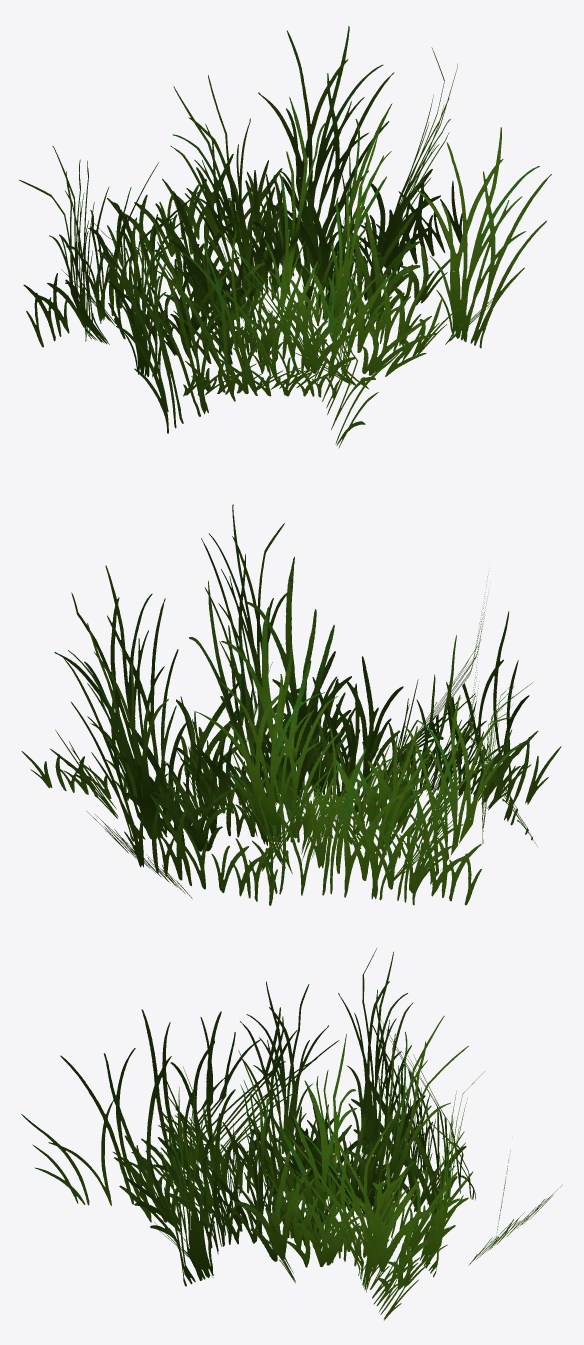
3 views of the same model, one above another, from view 1: azimuth 30°, elevation 25°; view 2: azimuth 150°, elevation 25°; view 3: azimuth 270°, elevation 25° (orthographic). The views are drawn at different scales.
Parts seen in each view (by area): view 1: SM_BM_GrassLong_02_LOD0; view 2: SM_BM_GrassLong_02_LOD0; view 3: SM_BM_GrassLong_02_LOD0.
Part boxes in pixels (left/top/right/bottom): SM_BM_GrassLong_02_LOD0: left=19, top=26, right=551, bottom=448; SM_BM_GrassLong_02_LOD0: left=21, top=504, right=561, bottom=905; SM_BM_GrassLong_02_LOD0: left=21, top=948, right=562, bottom=1320.
Size of the model in its own units: 1.19 by 0.6417 by 1.31.
1 material, 1 textured.
